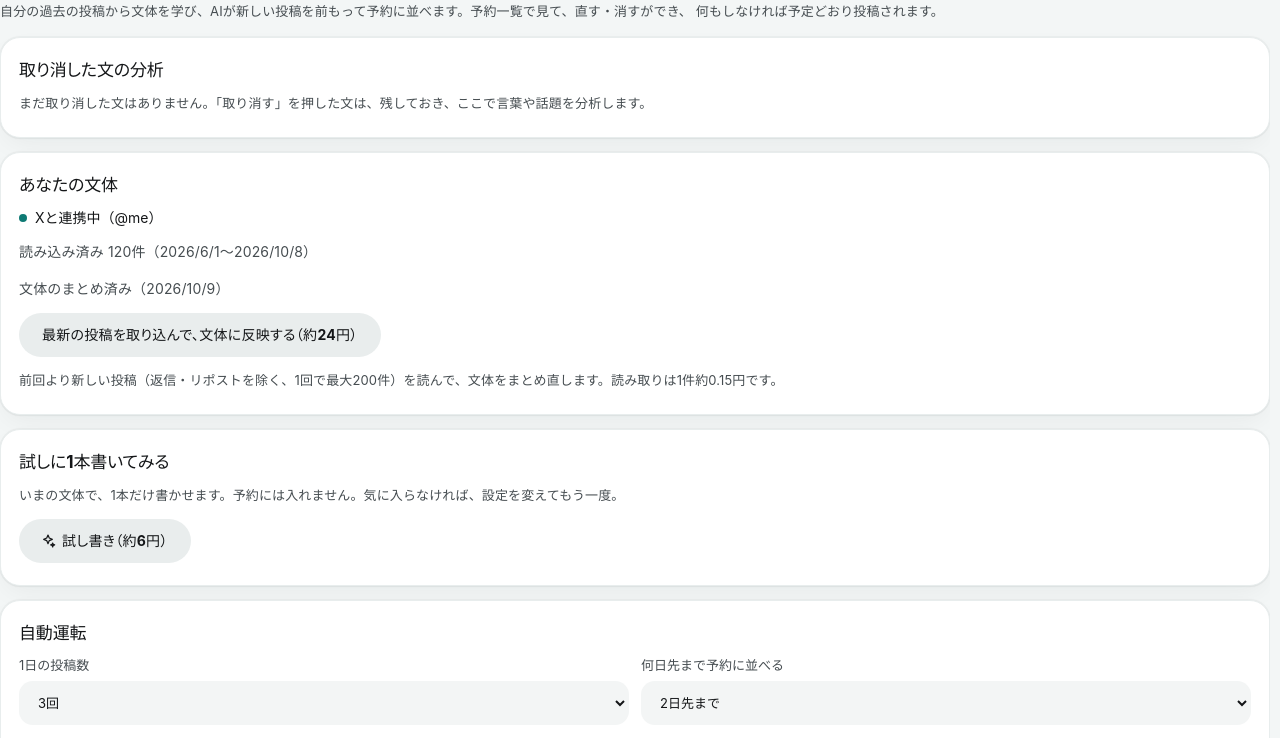
Test: XAutopilotPanel: 文体 › 新しい投稿が0件なら、まとめ直しはせず（費用を使わず）、取り込み済みの最新の日付を伝える
Step 1. Click the button "最新の投稿を取り込んで、文体に反映する（約24円）" → [200, 335], box [19,313,381,357]
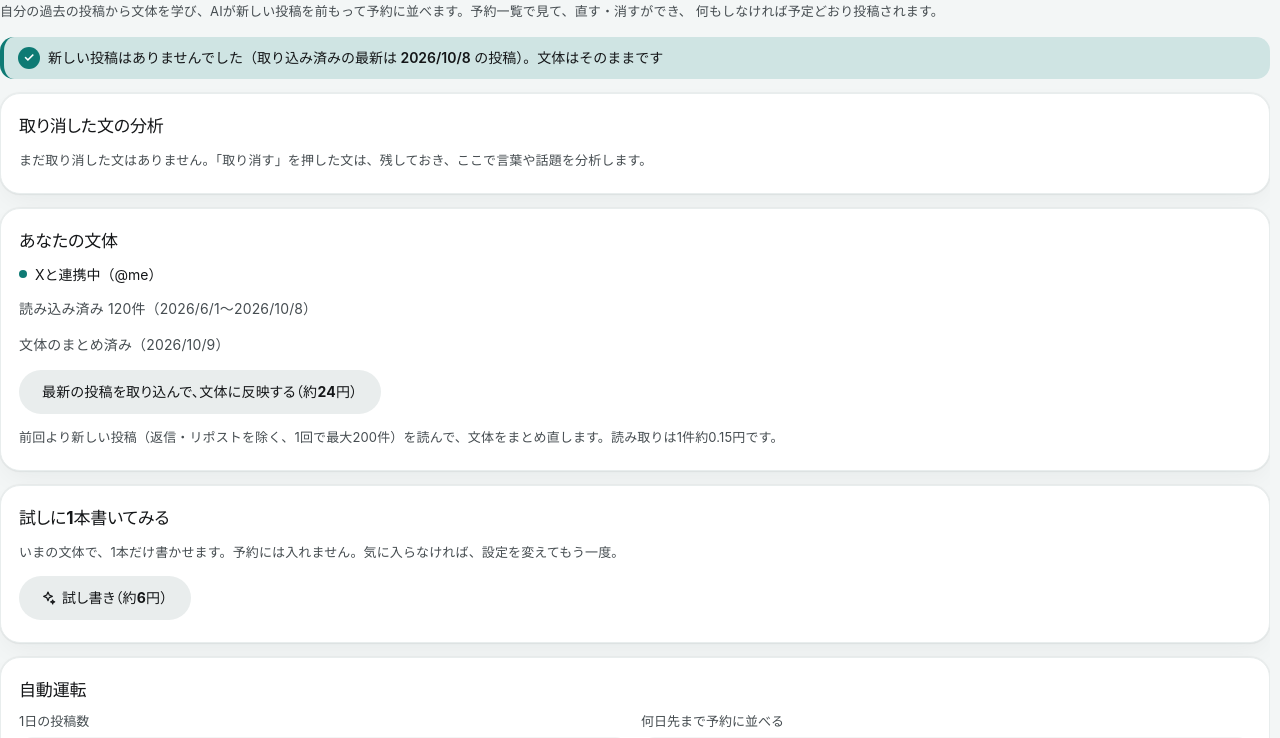
Expected: the text "新しい投稿はありませんでした（取り込み済みの最新は 2026/10/8 の投稿）。文体はそのままです" is shown, [0,37,1270,79]
